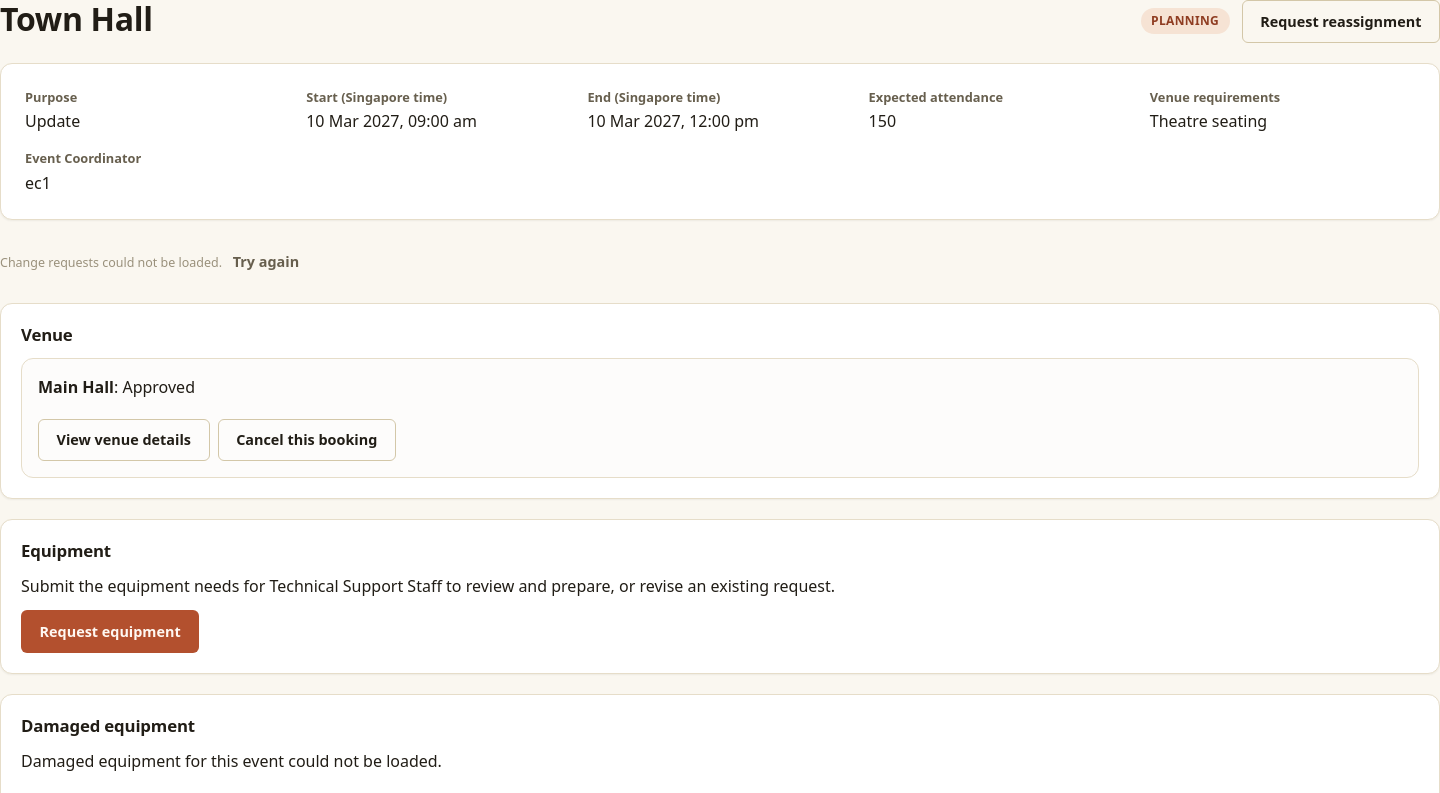
Test case: Cancelling a pending venue booking request (EC03) › retains the approved booking and displays a cancellation failure
Click the button "Cancel this booking" at (307, 440), box [218,419,396,461]
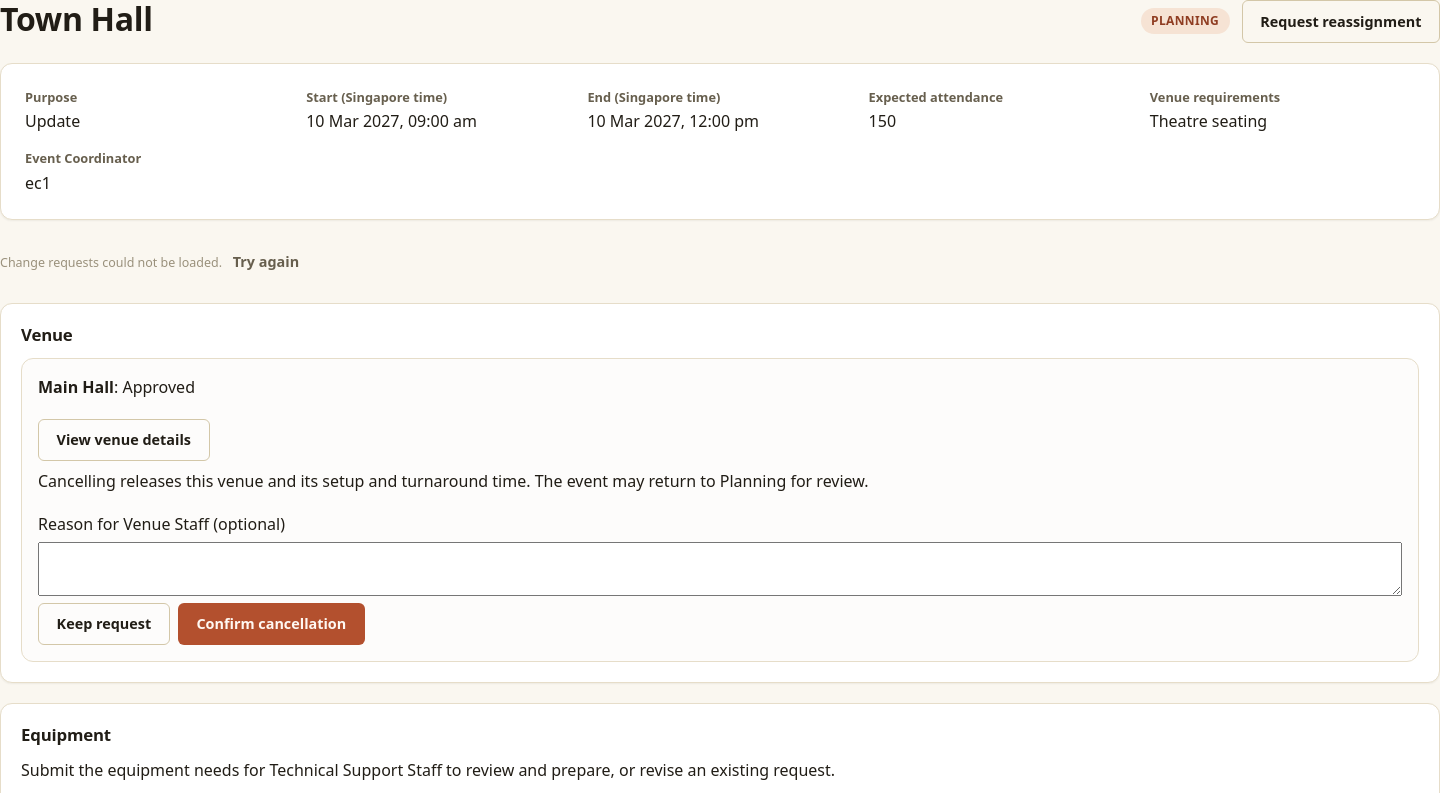
Click the button "Confirm cancellation" at (271, 624), box [178,602,365,645]
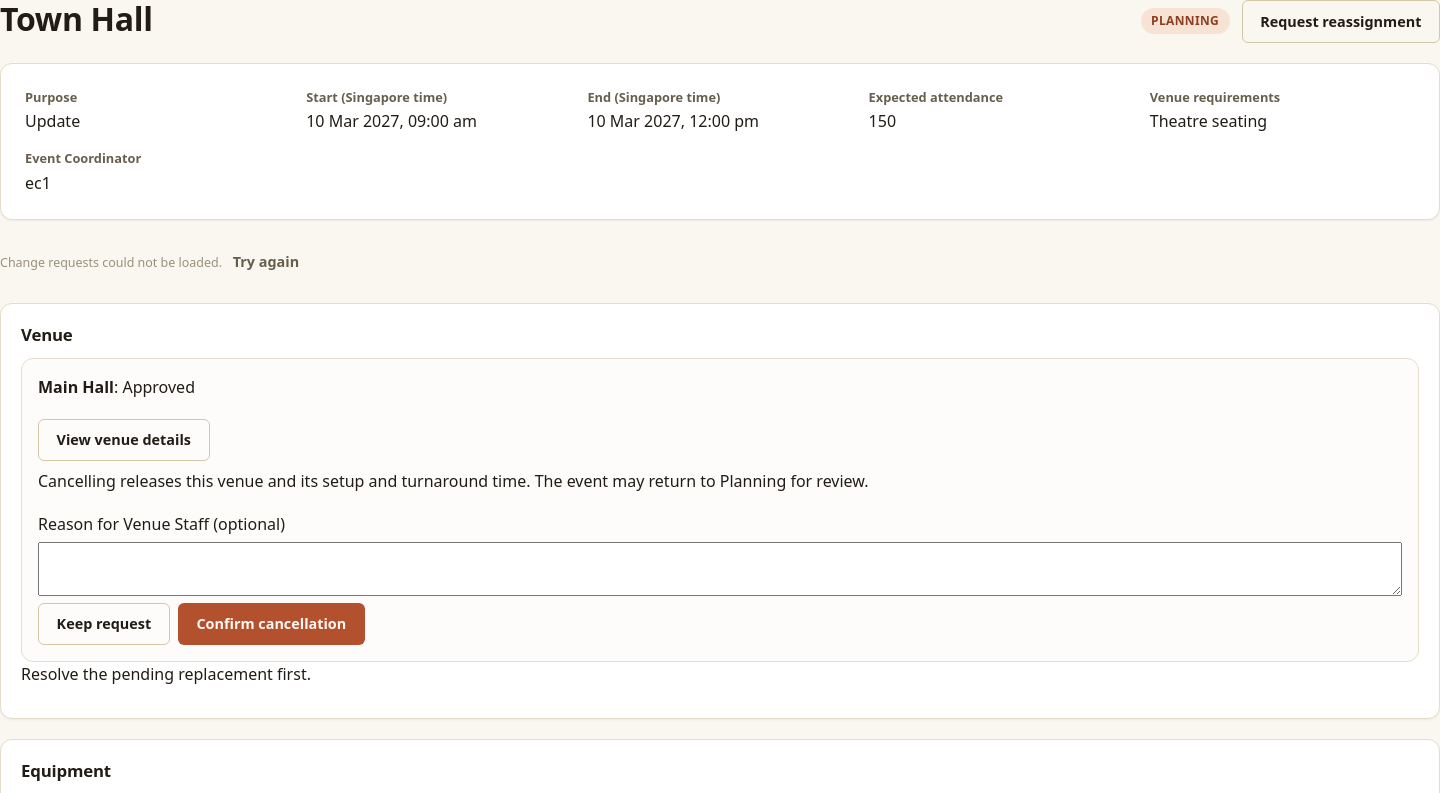
Check: the list named "Venue bookings" shows "Approved", box [122,376,195,398]
Check: the text "Resolve the pending replacement first." is shown, box [21,663,311,685]
